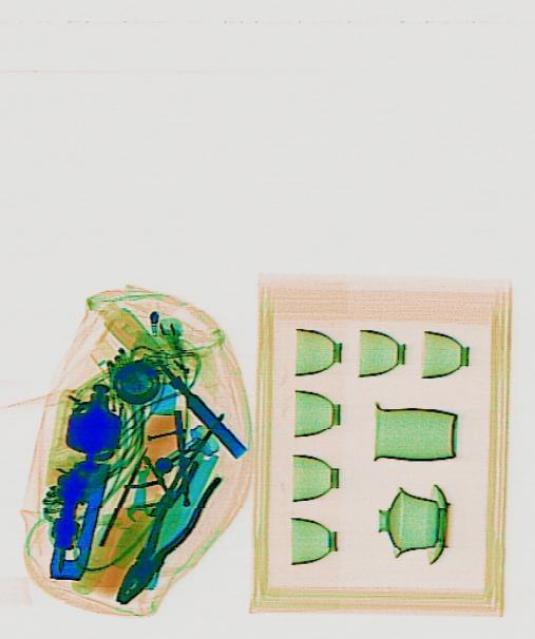Pliers: (101, 454, 224, 613)
